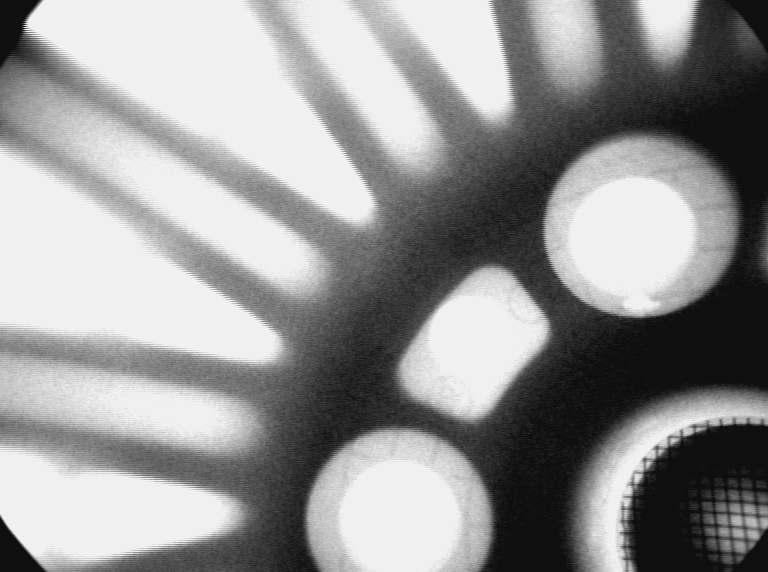defect: (621, 288, 666, 317)
